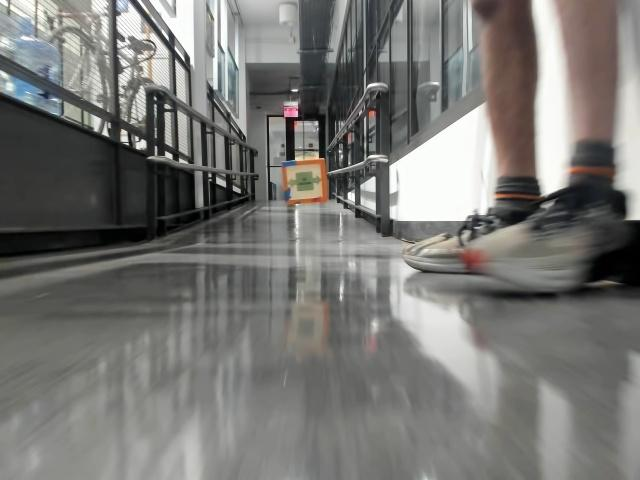Go Around: (287, 174, 318, 193)
